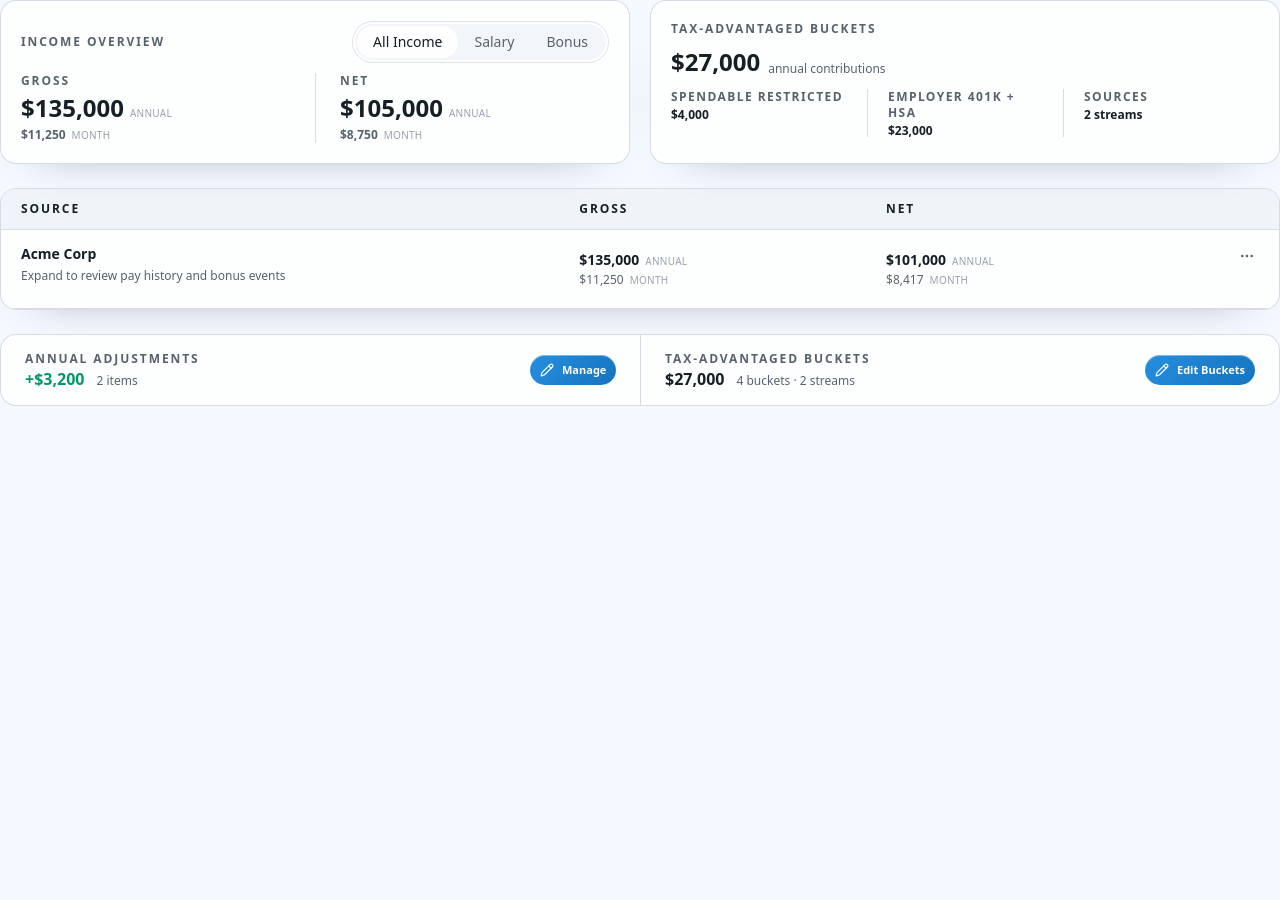
Scenario: IncomeView › shows tax-advantaged buckets above the source table
Expected: the text "Acme Corp" is shown, [21,244,96,263]
Expected: the text "$135,000" in the row of "$105,000" is shown, [21,91,124,124]
Step 1. Click the button with aria-label "Expand income source Acme Corp" → (640, 269), box [1,230,1279,308]
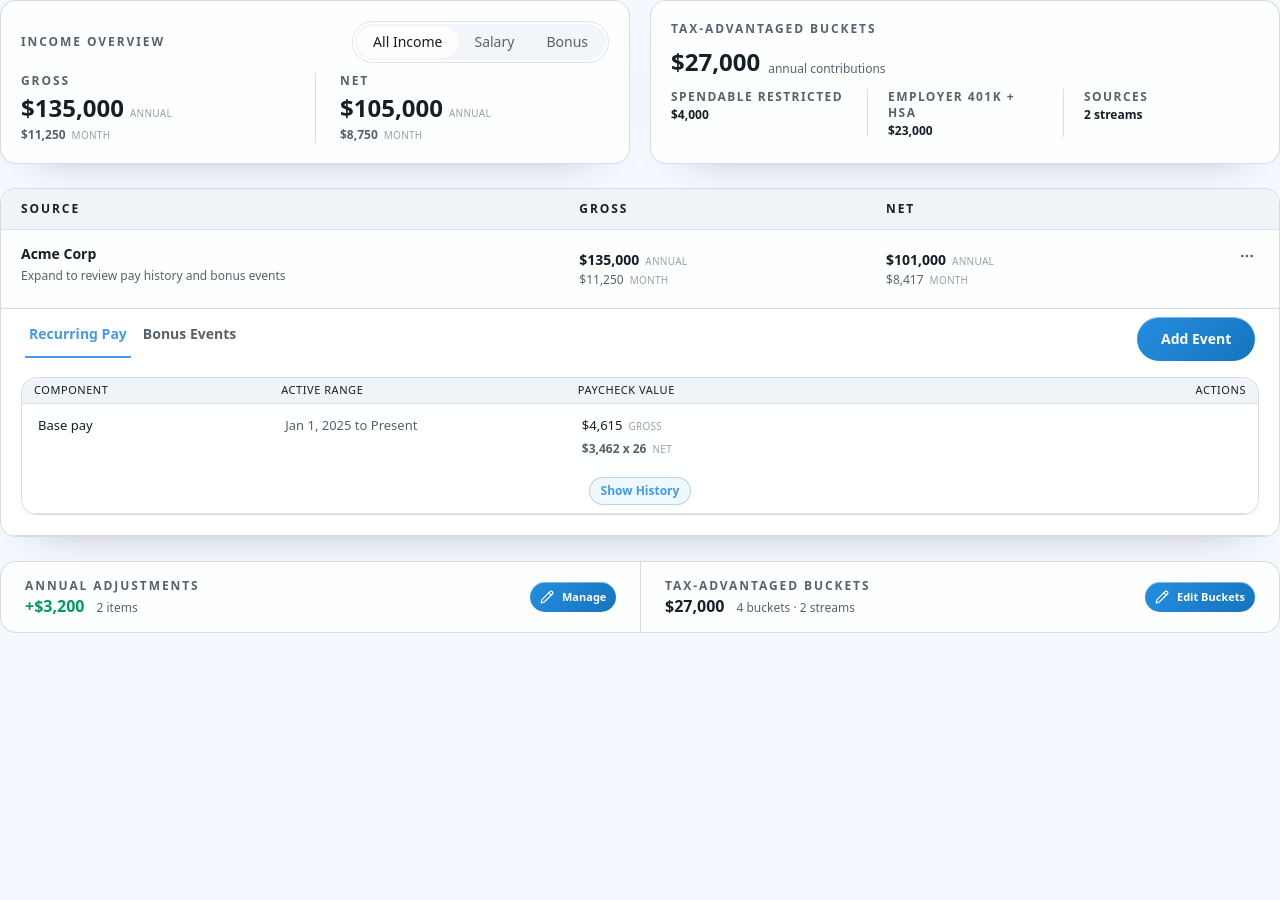
Expected: the button "Recurring Pay" is shown, [25,320,131,358]
Expected: the column heading "Paycheck Value" is shown, [566,378,1085,403]
Expected: the button "Bonus Events" is shown
Step 2. Click the button "Bonus Events" → (190, 339), box [139,320,240,358]
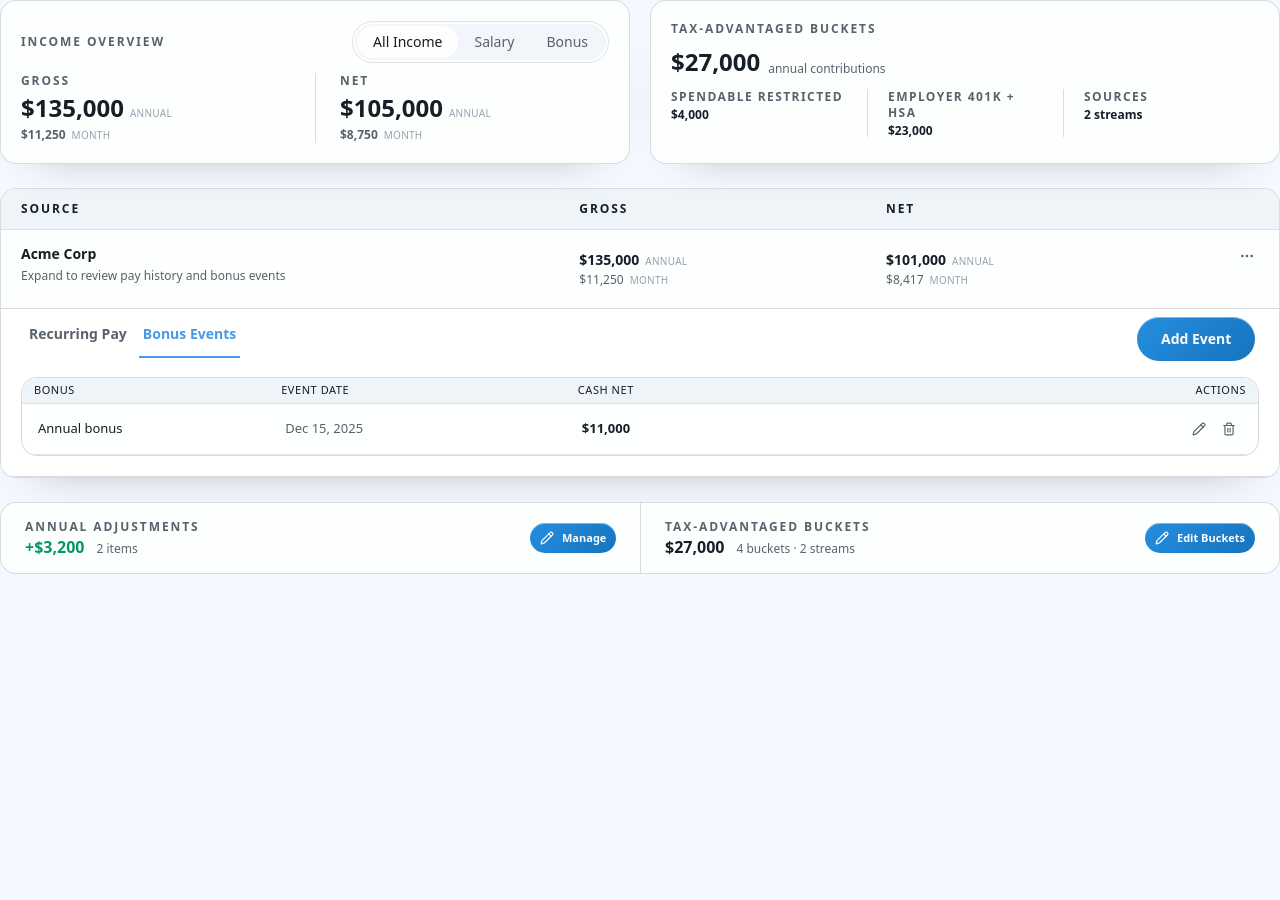
Expected: the text "Annual bonus" is shown, [22,403,269,454]
Expected: the column heading "Paycheck Value" is gone
